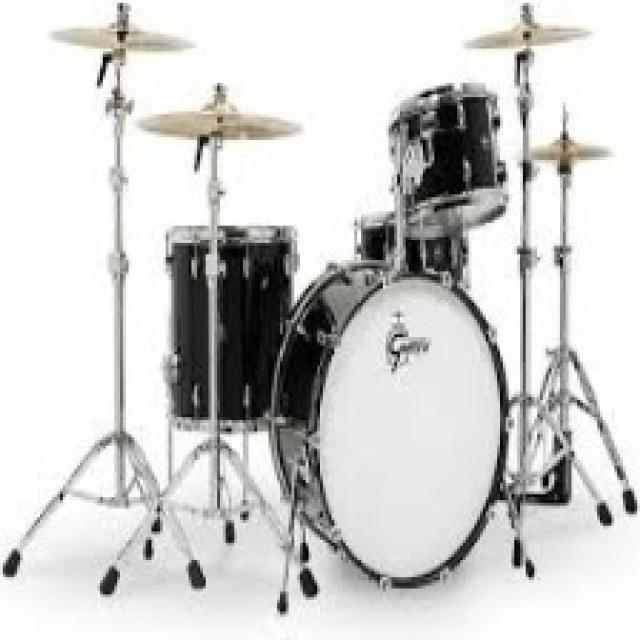drums: (50, 3, 613, 593)
